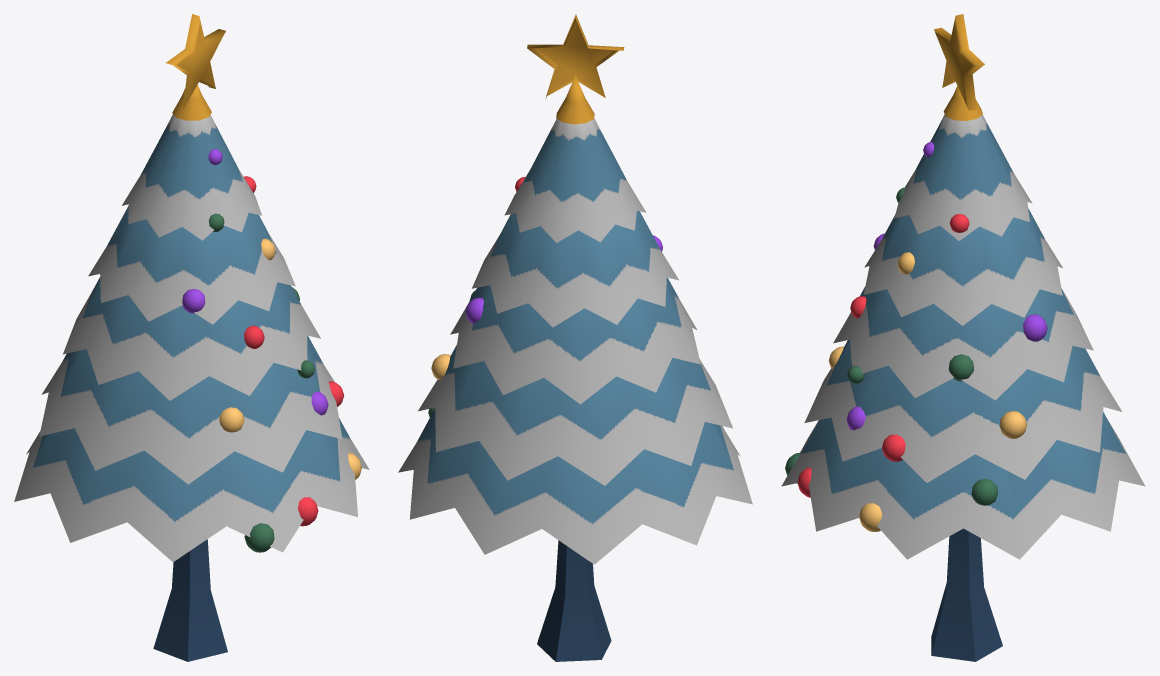
The model's file is TreeBigChristmas.glb.
3 views of the same model, side by side, from view 1: azimuth 30°, elevation 25°; view 2: azimuth 150°, elevation 25°; view 3: azimuth 270°, elevation 25° (orthographic).
Parts seen in each view (by area): view 1: tree big, Circle.003; view 2: tree big, Circle.003; view 3: tree big, Circle.003.
Part boxes in pixels (x1=…): tree big: x1=14, y1=114, x2=369, y2=661; Circle.003: x1=166, y1=14, x2=361, y2=552; tree big: x1=398, y1=118, x2=752, y2=661; Circle.003: x1=428, y1=14, x2=662, y2=417; tree big: x1=781, y1=114, x2=1145, y2=661; Circle.003: x1=785, y1=14, x2=1047, y2=531.
Bounding box in the file's own units: 1.42 × 2.87 × 1.5.
2 materials, 2 textured.
